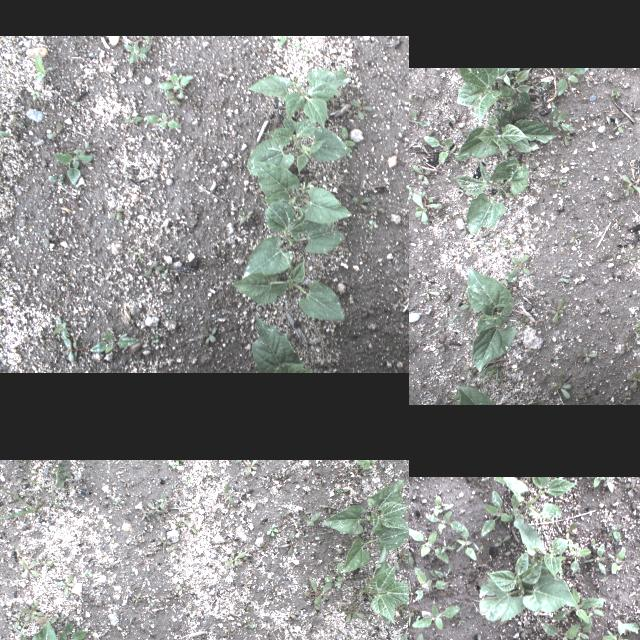crop: (242, 199, 344, 281), (232, 256, 344, 320), (479, 551, 577, 621), (458, 91, 556, 159), (247, 67, 349, 129), (253, 160, 351, 224), (453, 154, 531, 233), (247, 118, 349, 176), (466, 266, 516, 372), (320, 478, 409, 534), (456, 68, 534, 124), (357, 550, 409, 628), (502, 477, 578, 528), (250, 316, 314, 372), (344, 523, 409, 572), (514, 521, 568, 577), (25, 618, 65, 640), (456, 386, 496, 404), (349, 460, 389, 470), (530, 400, 544, 404)
weed: (0, 466, 66, 520), (426, 292, 480, 338), (551, 586, 605, 624), (53, 149, 95, 185), (481, 487, 511, 535), (409, 527, 449, 562), (411, 566, 449, 602), (300, 575, 334, 613), (410, 604, 460, 628), (89, 331, 140, 354), (558, 539, 588, 573), (5, 600, 42, 626), (413, 190, 443, 222), (502, 253, 532, 284), (424, 511, 464, 534), (424, 136, 458, 162), (556, 67, 586, 95), (44, 460, 72, 490), (582, 543, 608, 575), (160, 72, 197, 94), (603, 618, 638, 640), (540, 621, 580, 640), (140, 494, 168, 520), (457, 526, 478, 560), (34, 53, 54, 87), (336, 126, 356, 160), (146, 110, 182, 128), (58, 620, 90, 640), (622, 605, 640, 640), (549, 372, 573, 398), (342, 600, 368, 624), (324, 562, 344, 592), (64, 338, 88, 362), (550, 106, 574, 130), (122, 41, 150, 61), (351, 98, 375, 120), (52, 574, 76, 596), (297, 508, 321, 530), (611, 547, 627, 577), (164, 578, 192, 594), (19, 558, 41, 578), (155, 530, 175, 552), (621, 174, 640, 197), (234, 460, 258, 477), (283, 532, 303, 552), (573, 620, 593, 640), (413, 163, 431, 185), (0, 627, 30, 640), (173, 518, 197, 534), (227, 550, 246, 570), (550, 298, 564, 324), (222, 482, 236, 508), (433, 494, 453, 512), (576, 347, 598, 363), (429, 564, 451, 580), (620, 478, 638, 497), (146, 259, 164, 277), (409, 108, 427, 126), (420, 284, 440, 300), (482, 363, 498, 383), (39, 551, 55, 571), (52, 316, 66, 338), (128, 590, 142, 612), (606, 523, 622, 541), (517, 619, 533, 637), (352, 196, 372, 210), (147, 596, 161, 616), (48, 122, 64, 138), (320, 498, 336, 514), (202, 326, 216, 344), (238, 209, 252, 227), (176, 473, 194, 487), (80, 569, 98, 583), (493, 534, 511, 548), (592, 600, 606, 618), (627, 371, 640, 390), (124, 112, 144, 124), (550, 175, 568, 188), (0, 126, 12, 145), (164, 94, 183, 106), (370, 202, 386, 216), (516, 314, 530, 330), (266, 520, 280, 536), (256, 540, 272, 554), (478, 476, 506, 484), (42, 227, 52, 249), (564, 521, 576, 539), (409, 538, 416, 568), (587, 477, 605, 488), (10, 116, 26, 128), (285, 609, 301, 621), (242, 616, 255, 630), (165, 460, 183, 470), (397, 549, 409, 564), (110, 206, 122, 220), (79, 142, 91, 156), (610, 86, 622, 100), (622, 253, 636, 265), (110, 492, 122, 506), (561, 130, 571, 146), (440, 542, 456, 552), (570, 232, 582, 245), (334, 482, 348, 493), (138, 558, 150, 570), (132, 534, 144, 546), (276, 466, 288, 478), (606, 476, 614, 494), (614, 215, 624, 229), (606, 253, 618, 264), (614, 116, 622, 132), (500, 238, 516, 246), (31, 88, 41, 100), (277, 35, 287, 47), (536, 80, 548, 90), (120, 478, 130, 490), (409, 632, 424, 640), (409, 604, 414, 628), (474, 542, 484, 554), (49, 175, 65, 182), (368, 219, 379, 229), (456, 618, 466, 628), (474, 632, 486, 640), (556, 277, 570, 283), (150, 334, 158, 344), (464, 366, 472, 376), (558, 158, 568, 166), (484, 243, 494, 251), (403, 480, 409, 493), (0, 589, 5, 602), (294, 41, 302, 49), (304, 47, 310, 57), (141, 36, 151, 42), (486, 385, 492, 395), (635, 315, 640, 327), (500, 374, 504, 388), (409, 185, 412, 203), (440, 96, 446, 104), (592, 536, 596, 548), (414, 614, 421, 620), (452, 394, 462, 398), (405, 274, 409, 283), (16, 235, 22, 241), (446, 177, 452, 183)
